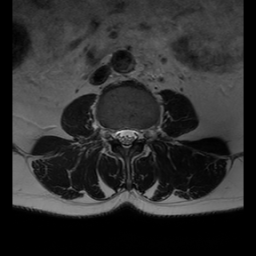CCS_normal: (122, 121, 129, 160)
LFS_normal: (137, 120, 146, 148)
LLS_normal: (129, 120, 137, 148)
RFS_normal: (107, 120, 115, 146)
RLS_normal: (115, 121, 122, 148)
